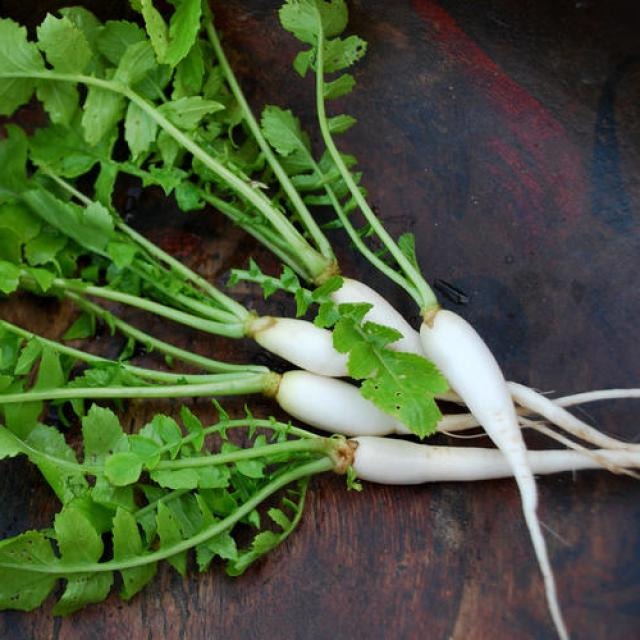Radish: (261, 0, 568, 639), (0, 406, 511, 613), (0, 0, 339, 284), (0, 127, 348, 376), (0, 320, 409, 436), (332, 281, 421, 353), (529, 449, 640, 473), (552, 389, 640, 407), (439, 414, 479, 431), (64, 292, 102, 309), (517, 400, 540, 417)
